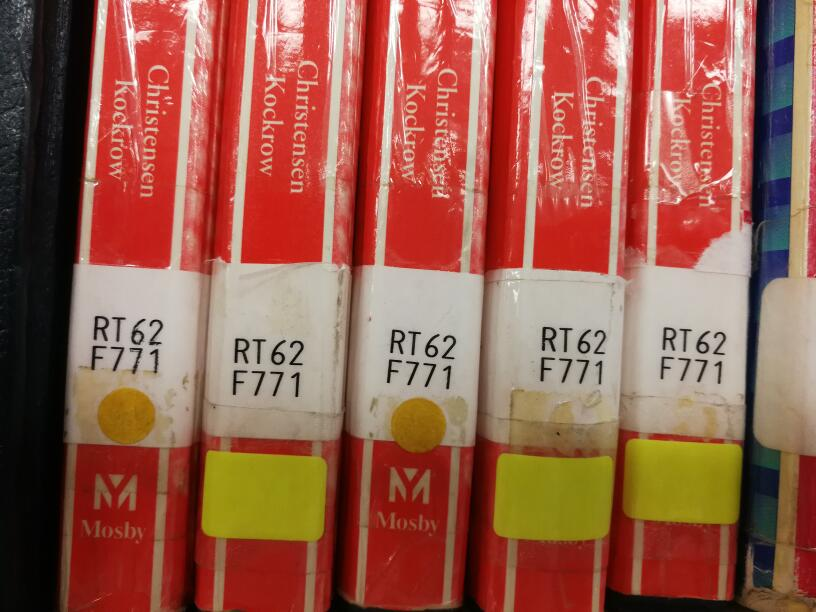booklabel: (87, 310, 167, 376), (382, 326, 459, 392), (229, 334, 306, 399), (657, 323, 728, 387), (538, 323, 609, 385)
